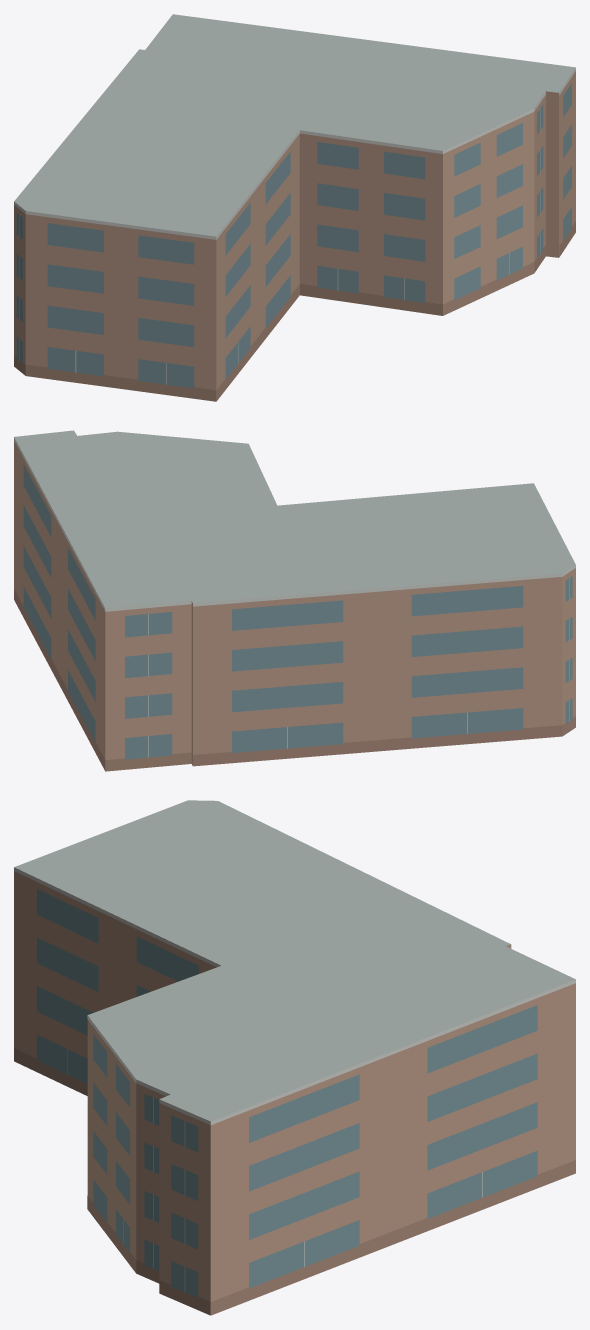
The model's file is survey-upis-32724224.glb.
The picture shows the model from 3 angles, top to bottom: view 1: azimuth 30°, elevation 25°; view 2: azimuth 150°, elevation 25°; view 3: azimuth 270°, elevation 25°; orthographic projection. The views are drawn at different scales.
Parts seen in each view (by area): view 1: survey-upis-32724224.tmp; view 2: survey-upis-32724224.tmp; view 3: survey-upis-32724224.tmp.
Boxes of the visible parts, x1=… form: survey-upis-32724224.tmp: x1=14, y1=14, x2=575, y2=401; survey-upis-32724224.tmp: x1=14, y1=430, x2=575, y2=771; survey-upis-32724224.tmp: x1=14, y1=800, x2=575, y2=1315.
Bounding box in the file's own units: 44.37 × 12.5 × 32.8.
